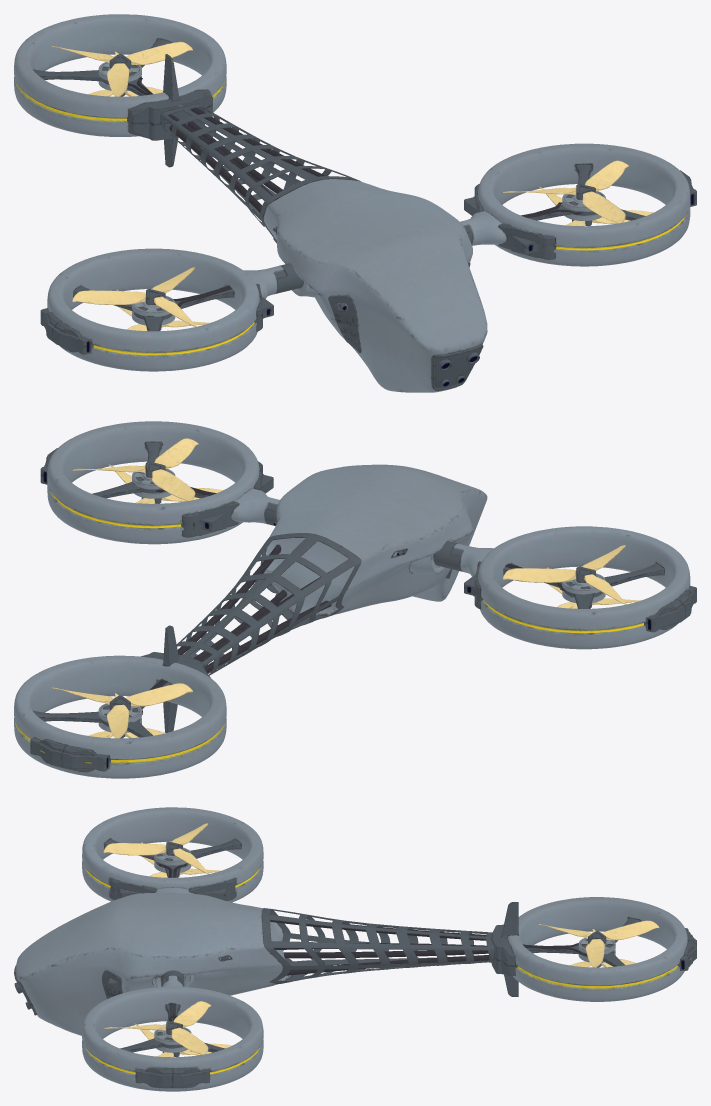
File: surveillance-drone.glb
3 renders of one model, top to bottom at view 1: azimuth 30°, elevation 25°; view 2: azimuth 150°, elevation 25°; view 3: azimuth 270°, elevation 25°, orthographic. The views are drawn at different scales.
Visible parts, largest first — view 1: Sci-Fi Surveillance Drone; view 2: Sci-Fi Surveillance Drone; view 3: Sci-Fi Surveillance Drone.
Part boxes in pixels (x1,y1,x2,y2): Sci-Fi Surveillance Drone: (14,14,696,392); Sci-Fi Surveillance Drone: (14,421,696,778); Sci-Fi Surveillance Drone: (14,807,696,1091).
Size of the model in its own units: 11.76 by 2.64 by 12.88.
Materials: 1 (1 with a texture image).
